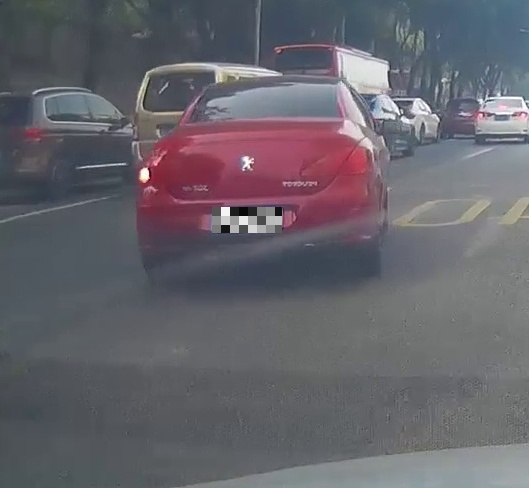L_light: (138, 159, 188, 187), (476, 111, 493, 118)
R_light: (300, 146, 367, 176), (512, 111, 529, 119)
T_light: (253, 77, 288, 85), (499, 106, 507, 108)
day-brake: (475, 96, 529, 143)
day-left: (138, 74, 374, 285)
plate_1: (212, 207, 282, 233)
